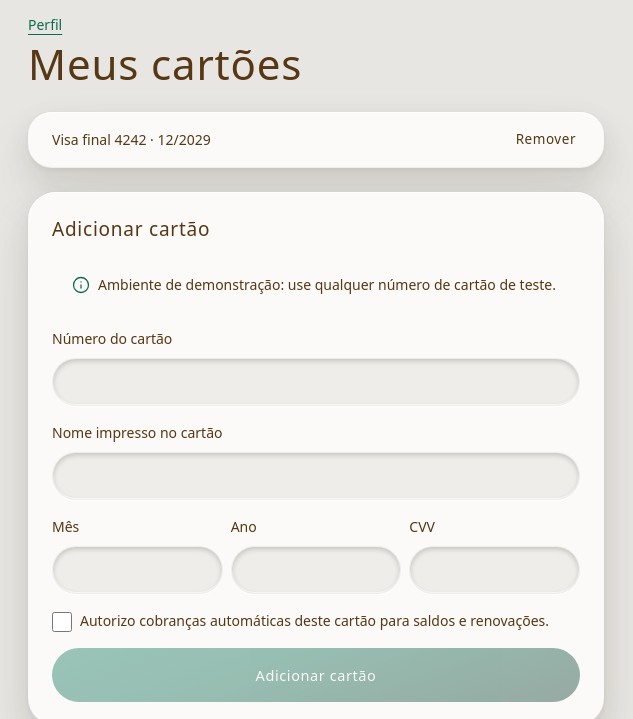
Test: CardsPage (NUC-194) › sends only the sandbox token and the consent to the API, never the card number
Check: the text "Visa final 4242 · 12/2029" is shown, box [52,129,211,151]
In the field labelled "Número do cartão": (316, 382) [52,358,580,406], type "4242 4242 4242 4242"
In the field labelled "Nome impresso no cartão": (316, 476) [52,452,580,500], type "CAMILA SOUZA"
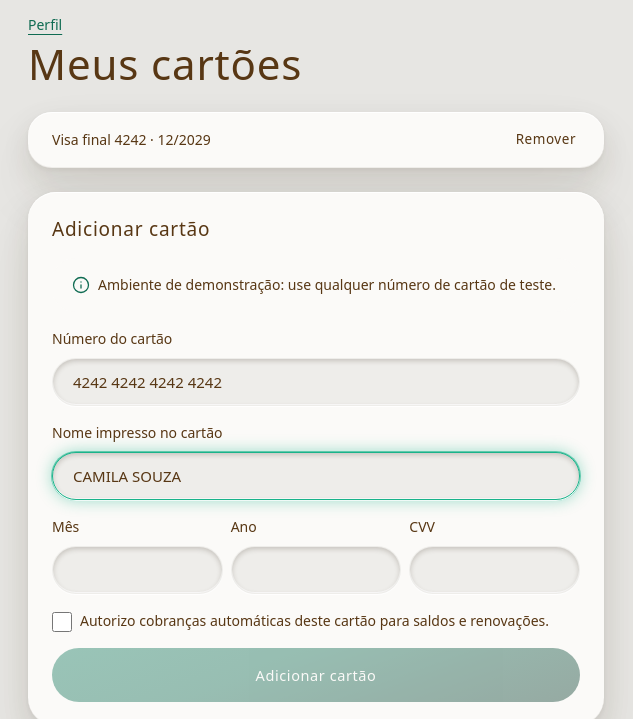
In the field labelled "Mês": (137, 570) [52,546,223,594], type "12"
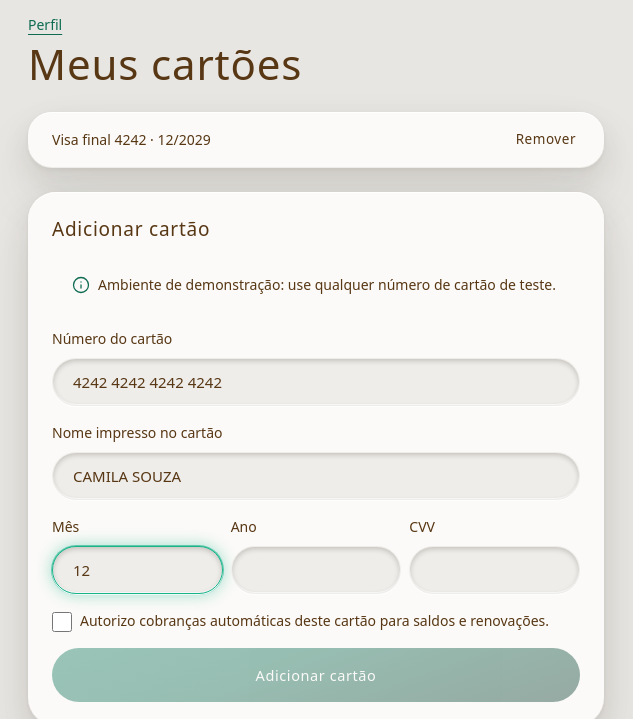
In the field labelled "Ano": (316, 570) [231,546,401,594], type "2030"
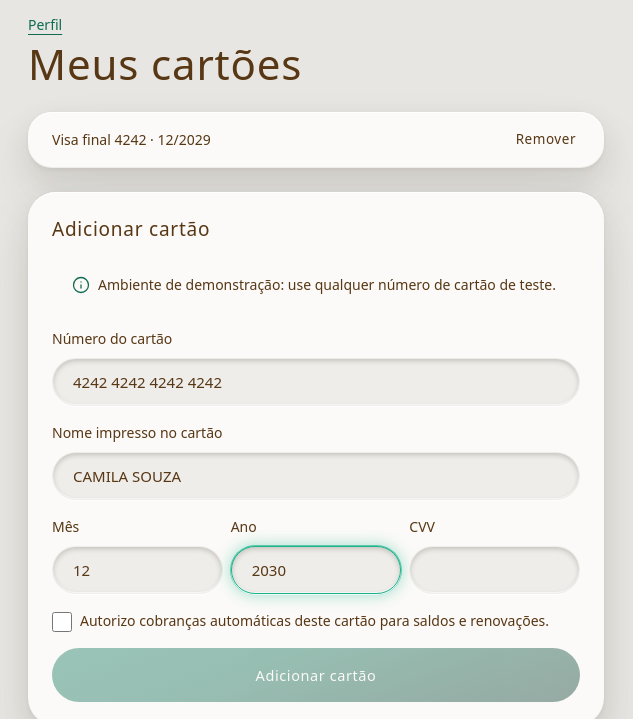
In the field labelled "CVV": (495, 570) [409,546,580,594], type "123"
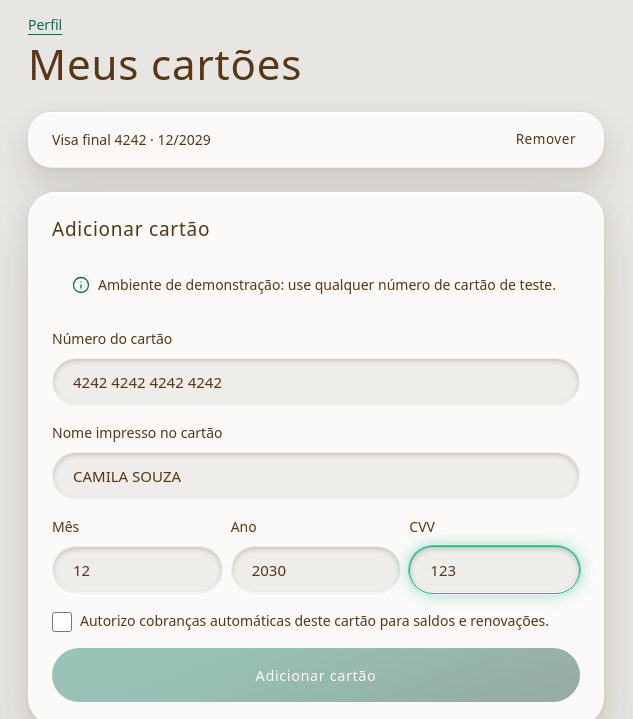
Click the checkbox labelled "Autorizo cobranças automáticas deste cartão para saldos e renovações.": (62, 622) [52,612,72,632]
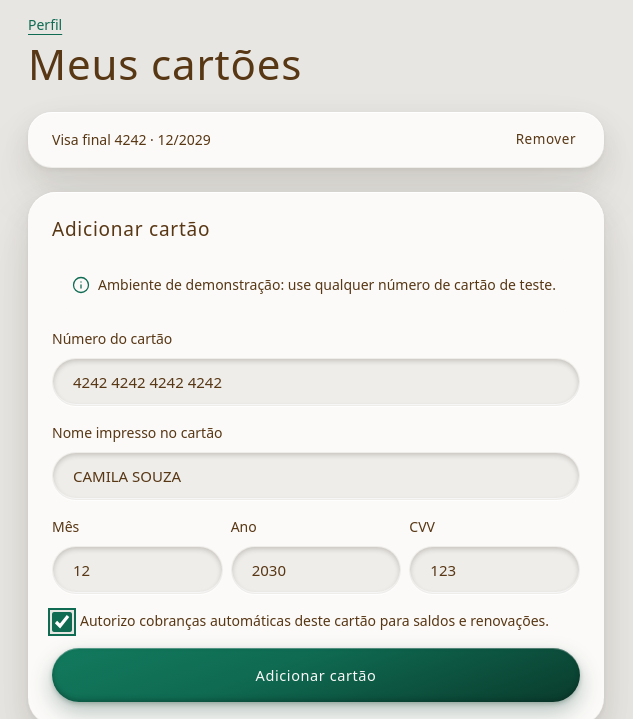
Click the button "Adicionar cartão": (316, 675) [52,648,580,702]
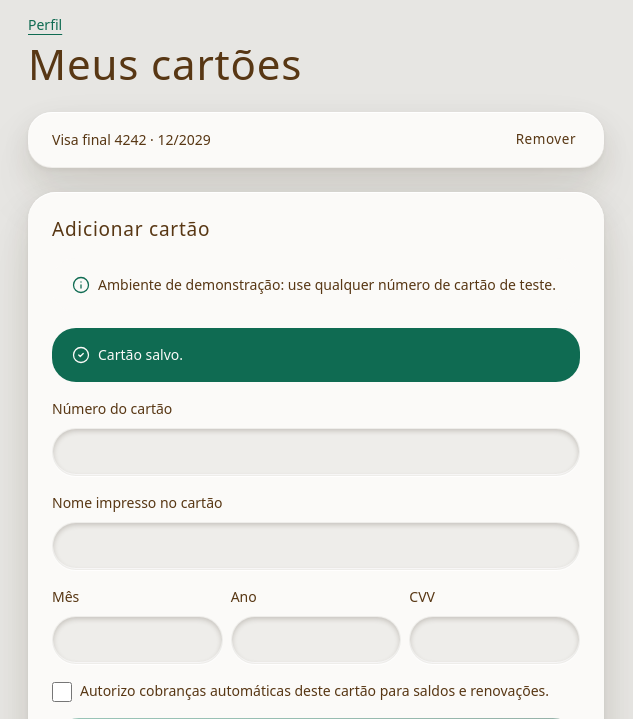
Check: the text "Cartão salvo." is shown, box [98,345,183,364]
